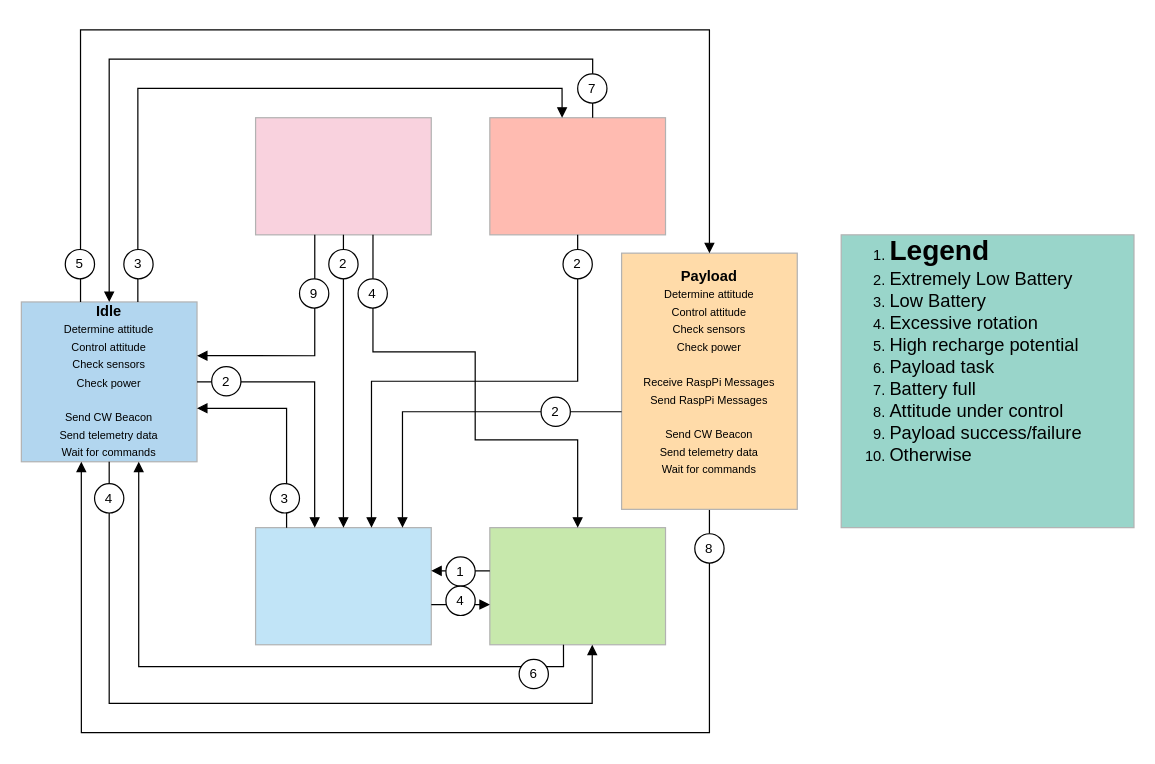
Image size: 1155x764. Some labels were removed from this diagram. Here are the shapes that lost their labels. From the top down, the centre of each, then its label:
At (342,176): "Antenna, Solar Panel Deployment".
At (577,176): "De-tumbling".
At (342,585): "Low Power".
At (577,585): "Active Recharge Read sensors Determine attitude Control attitude Send beacon".
